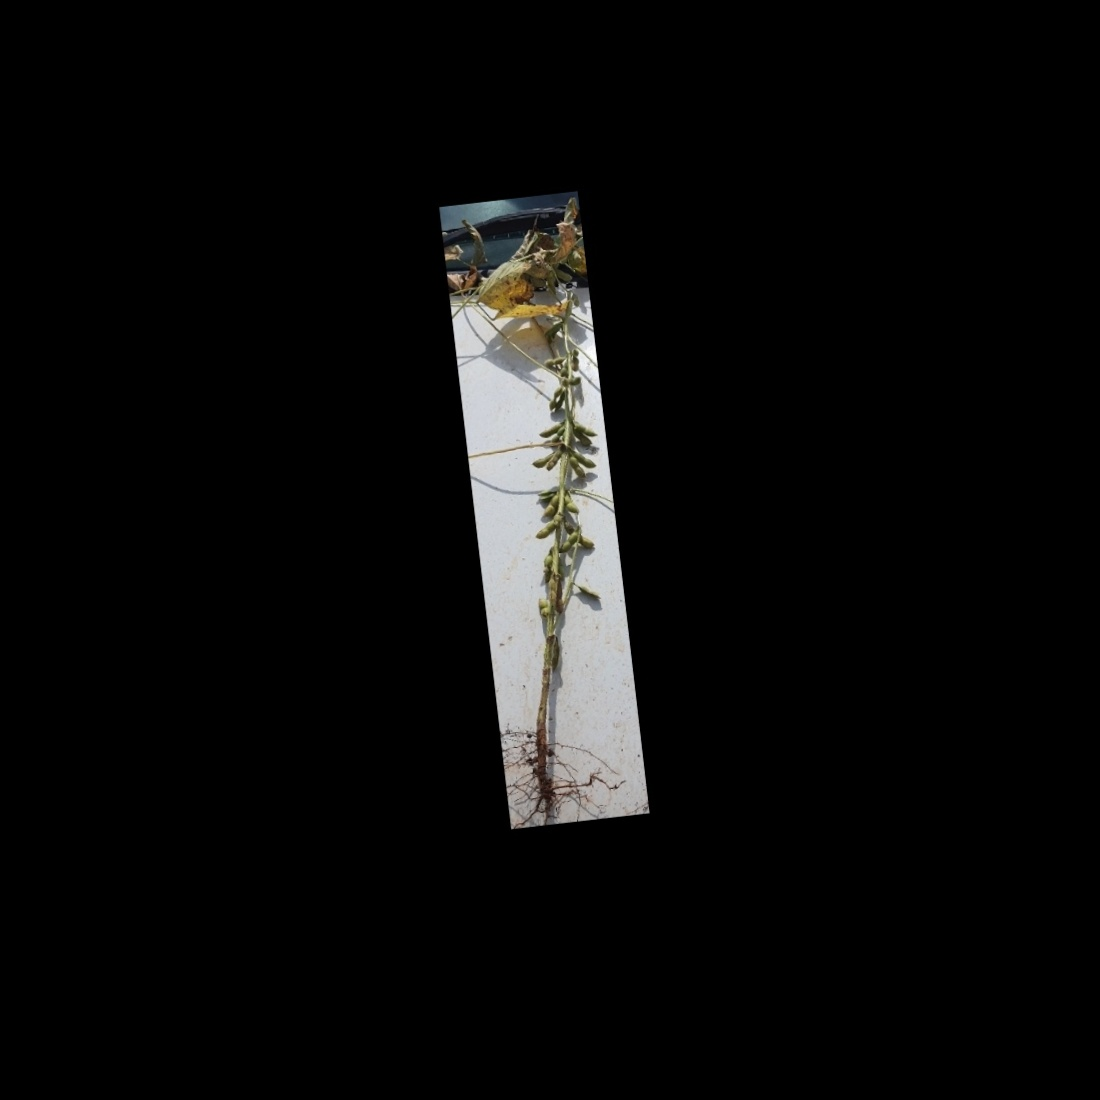pod: (531, 518, 563, 541), (555, 529, 582, 555), (576, 581, 604, 604), (566, 453, 587, 482), (544, 384, 563, 413), (542, 449, 564, 473), (570, 425, 592, 448), (576, 418, 600, 437), (553, 580, 565, 614), (562, 494, 580, 516), (542, 353, 568, 368), (547, 427, 565, 447), (539, 547, 556, 567), (568, 347, 580, 373), (538, 596, 550, 618), (570, 292, 581, 310)
soy: (452, 214, 640, 811)
